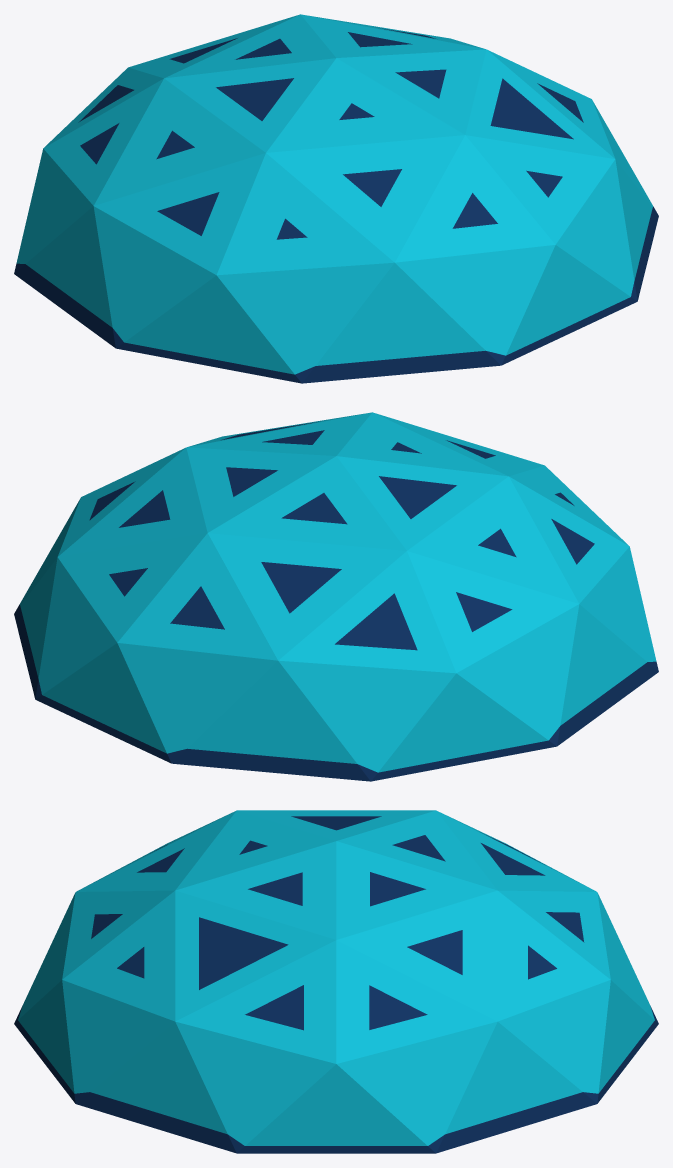
The model's file is cogumelo4.FBX.
3 renders of one model, top to bottom at view 1: azimuth 30°, elevation 25°; view 2: azimuth 150°, elevation 25°; view 3: azimuth 270°, elevation 25°, orthographic. The views are drawn at different scales.
Parts seen in each view (by area): view 1: GeoSphere005; view 2: GeoSphere005; view 3: GeoSphere005.
Boxes of the visible parts, box(x1,y1,x2,y2) form: GeoSphere005: box(14, 14, 658, 383); GeoSphere005: box(14, 412, 658, 781); GeoSphere005: box(14, 810, 658, 1153).
Bounding box in the file's own units: 42.4 × 13.95 × 44.58.
